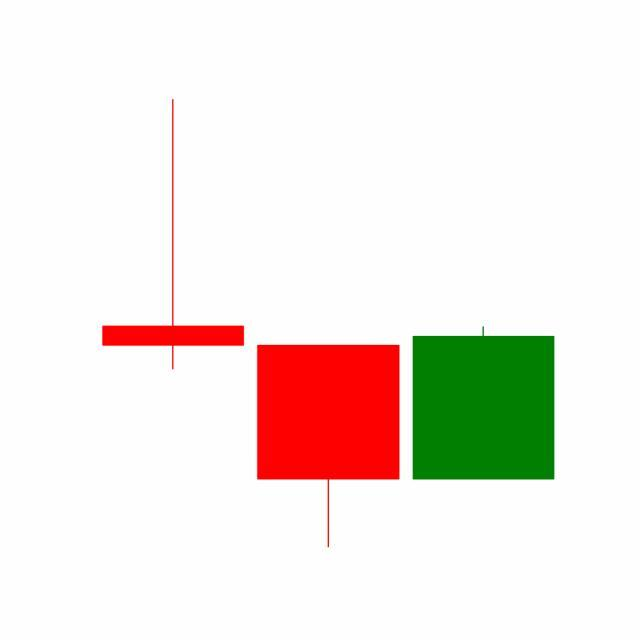Marubozu: (406, 325, 562, 482)
